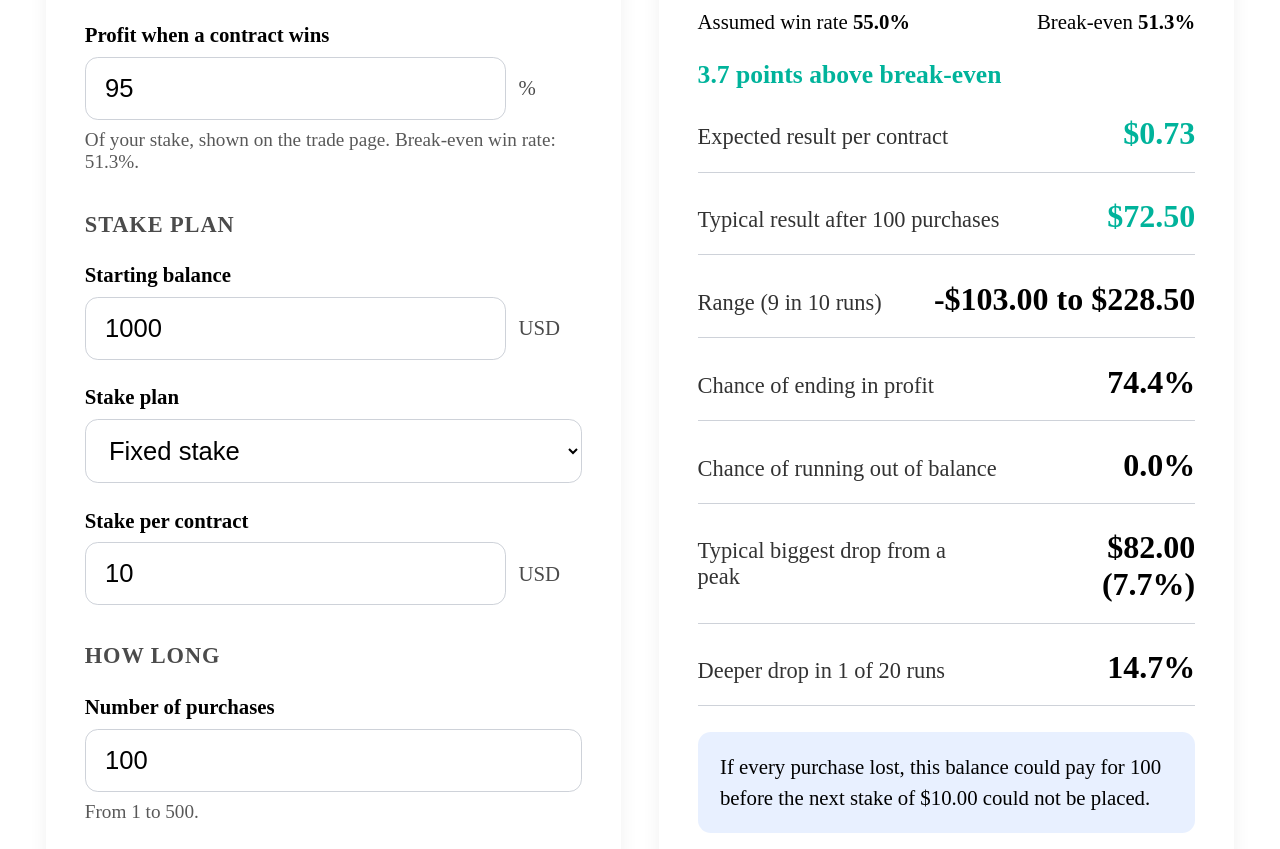
Test case: <WhatIfCalculator /> › asks for a multiplier only on a martingale and a step only on D’Alembert
(page scrolled)
Select "Martingale: multiply after a loss" in the dropdown with test id "dt_whatif_plan" at [334, 451], box [85,419,582,483]
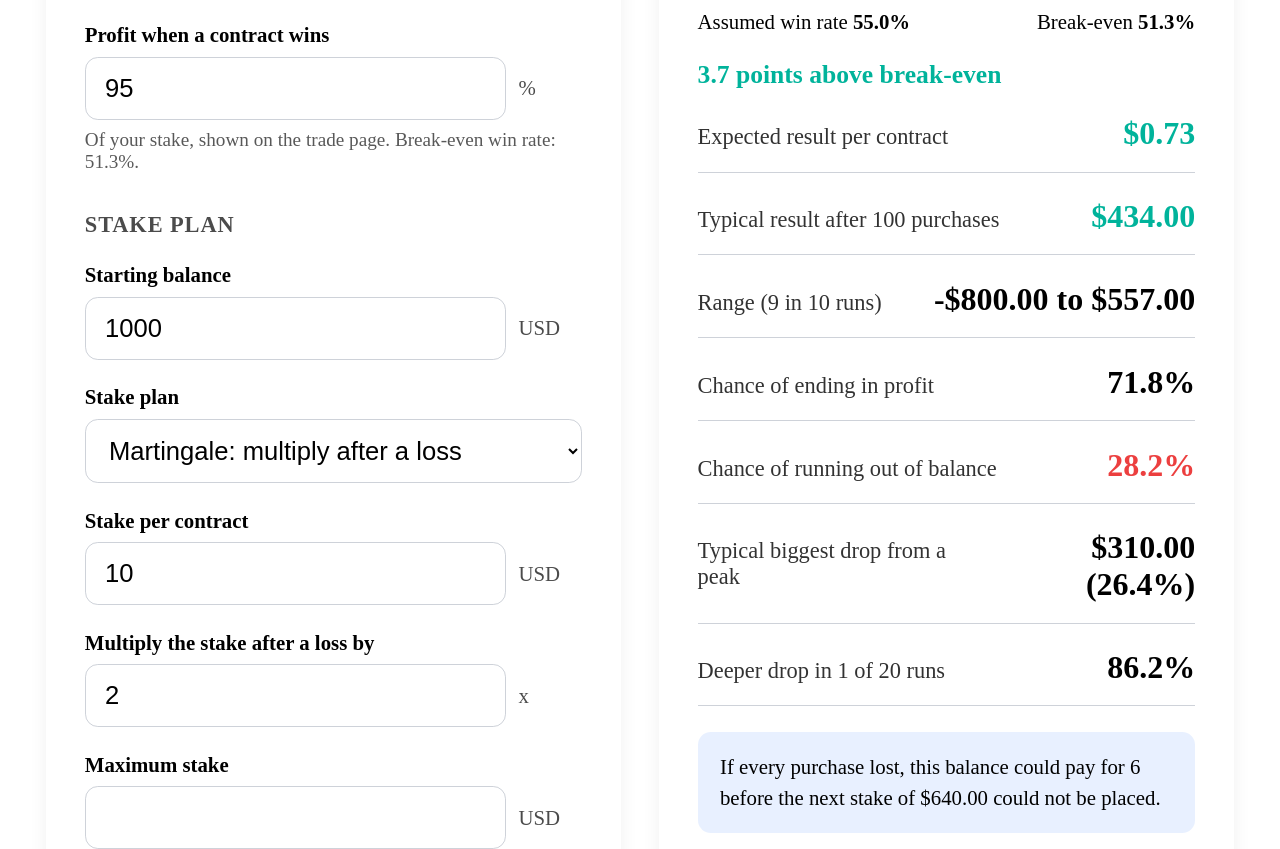
Check: the number field with test id "dt_whatif_multiplier" is shown, box [85,664,506,727]
Select "D'Alembert: add after a loss, take off after a win" in the dropdown with test id "dt_whatif_plan" at [334, 451], box [85,419,582,483]
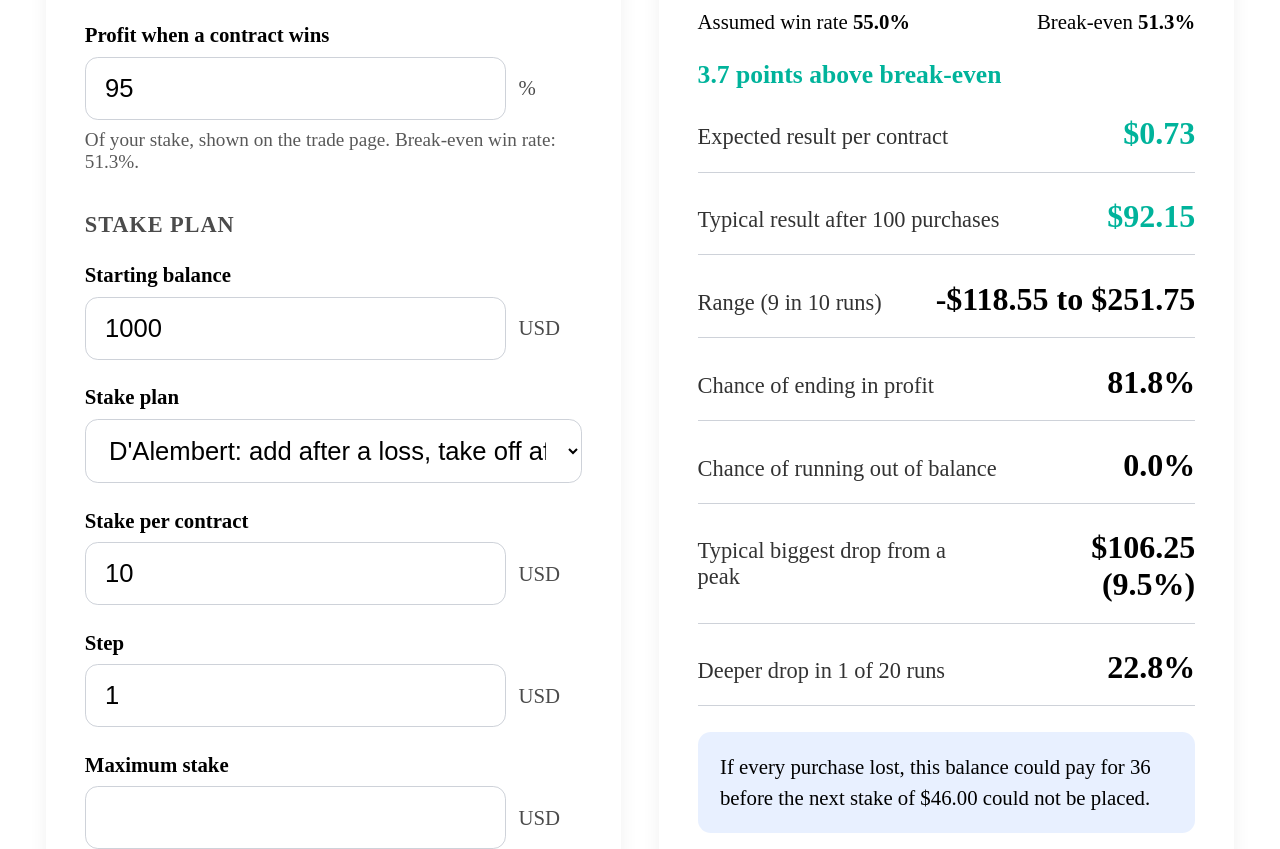
Check: the number field with test id "dt_whatif_step" is shown, box [85,664,506,727]
Check: the number field with test id "dt_whatif_multiplier" is gone
